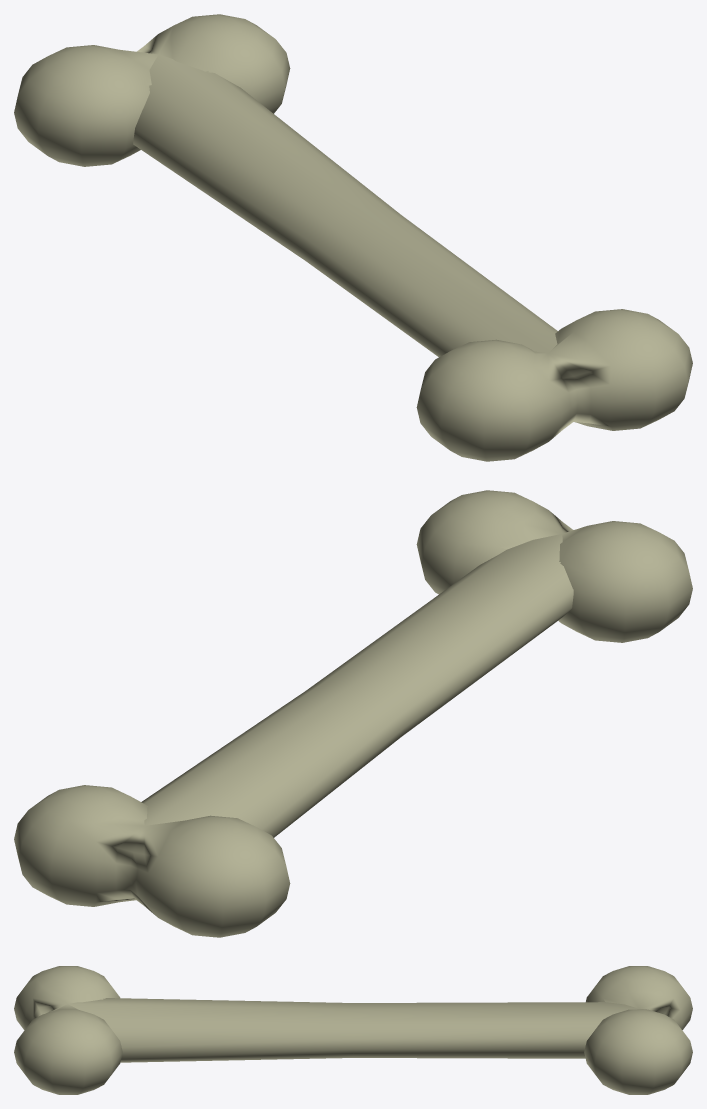
File: dogbone white.fbx
3 views of the same model, one above another, from view 1: azimuth 30°, elevation 25°; view 2: azimuth 150°, elevation 25°; view 3: azimuth 270°, elevation 25° (orthographic). The views are drawn at different scales.
Parts seen in each view (by area): view 1: Dog Bone White; view 2: Dog Bone White; view 3: Dog Bone White.
Part boxes in pixels (<box>): Dog Bone White: <box>14,14,692,461</box>; Dog Bone White: <box>14,490,692,937</box>; Dog Bone White: <box>14,966,692,1094</box>.
Size of the model in its own units: 26.13 by 10.27 by 85.96.
